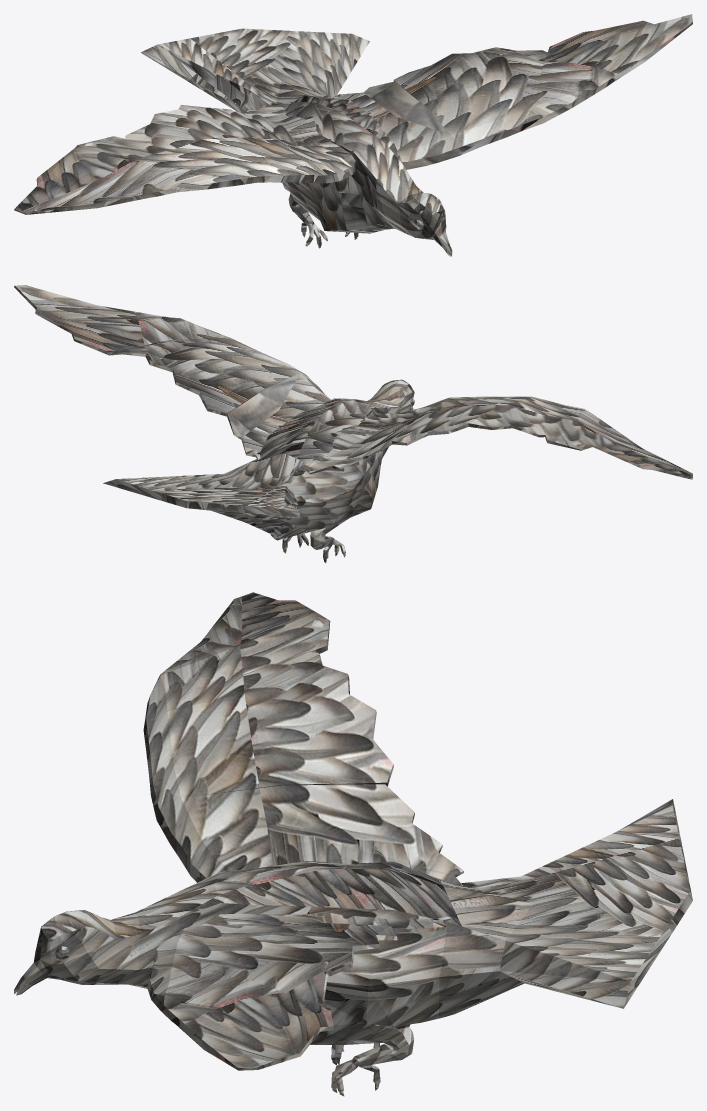
Rendered from pigeon1.gltf.
The picture shows the model from 3 angles, top to bottom: view 1: azimuth 30°, elevation 25°; view 2: azimuth 150°, elevation 25°; view 3: azimuth 270°, elevation 25°; orthographic projection. The views are drawn at different scales.
Visible parts, largest first — view 1: flying, flying.001, flying.002; view 2: flying, flying.001, flying.002; view 3: flying, flying.002, flying.001.
Part boxes in pixels (x1=…): flying: x1=141, y1=28, x2=452, y2=256; flying.001: x1=328, y1=14, x2=692, y2=169; flying.002: x1=14, y1=105, x2=355, y2=214; flying: x1=103, y1=379, x2=414, y2=563; flying.001: x1=14, y1=285, x2=380, y2=459; flying.002: x1=296, y1=396, x2=692, y2=479; flying: x1=14, y1=799, x2=692, y2=1096; flying.002: x1=143, y1=592, x2=463, y2=885; flying.001: x1=147, y1=870, x2=451, y2=1070.
Size of the model in its own units: 10.85 by 2.61 by 5.98.
3 materials, 3 textured.
